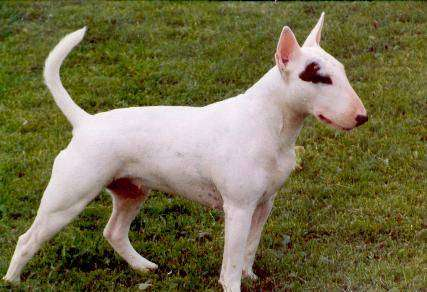bull_terrier: (0, 11, 367, 292)
